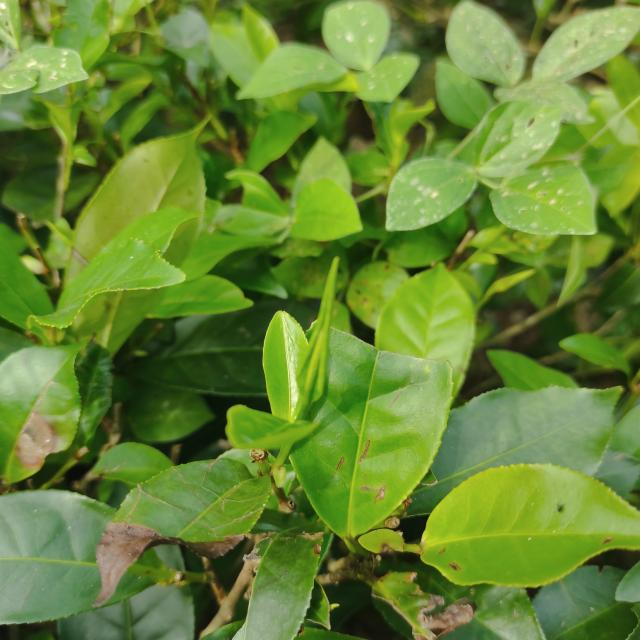unopened_leaf: (288, 248, 349, 422)
